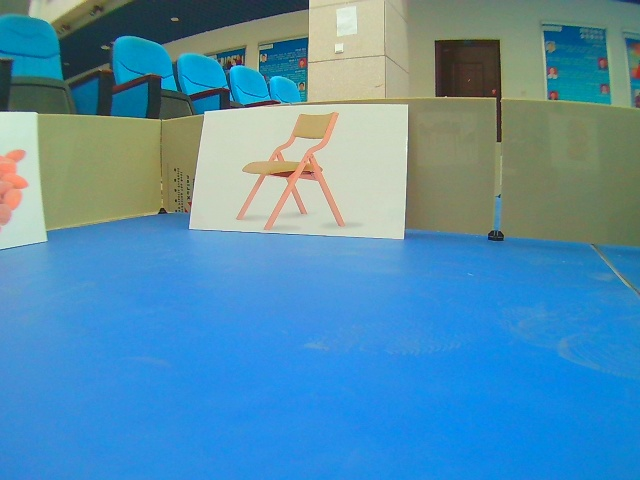table: (187, 105, 410, 240)
